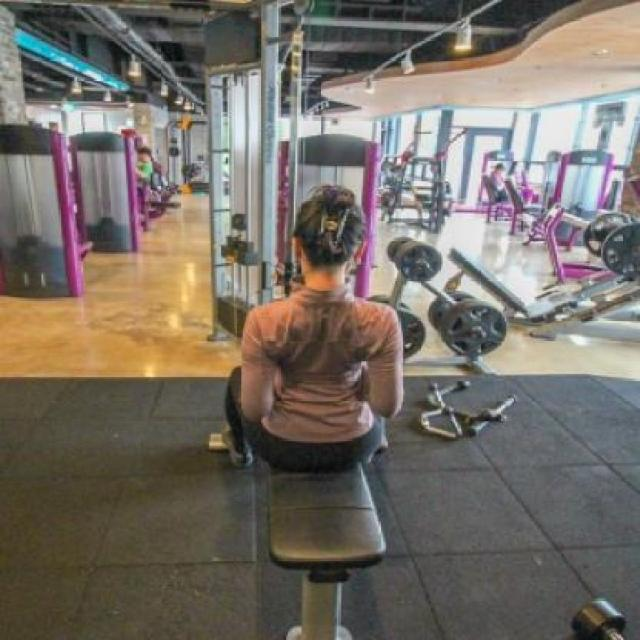Seated Cable Rows: (186, 23, 414, 634)
